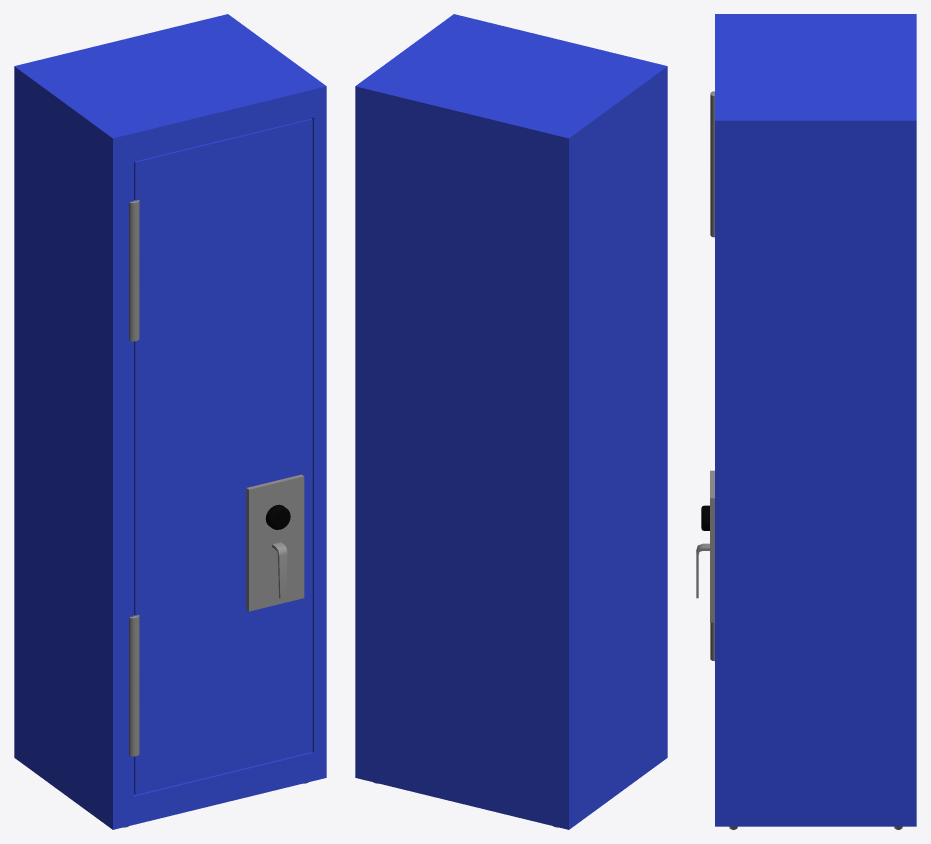
File: SingleLockerBlue_PlayerRoom_Model.FBX
The picture shows the model from 3 angles, left to right: view 1: azimuth 30°, elevation 25°; view 2: azimuth 150°, elevation 25°; view 3: azimuth 270°, elevation 25°; orthographic projection. The views are drawn at different scales.
Parts seen in each view (by area): view 1: Baytek_PlayerRoom_Set01_Locker; view 2: Baytek_PlayerRoom_Set01_Locker; view 3: Baytek_PlayerRoom_Set01_Locker.
Boxes of the visible parts, <box> form: Baytek_PlayerRoom_Set01_Locker: <box>14,14,326,829</box>; Baytek_PlayerRoom_Set01_Locker: <box>355,14,667,829</box>; Baytek_PlayerRoom_Set01_Locker: <box>696,14,916,829</box>.
Size of the model in its own units: 60.01 by 188 by 52.51.
